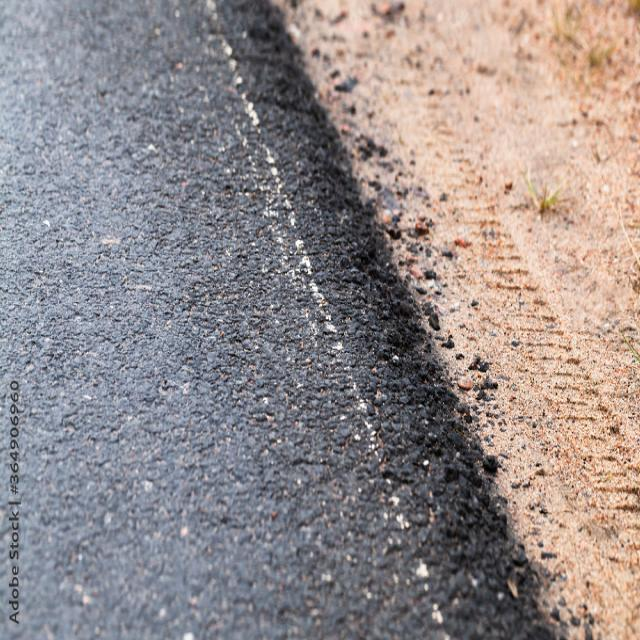Pothole: (186, 8, 633, 593)
